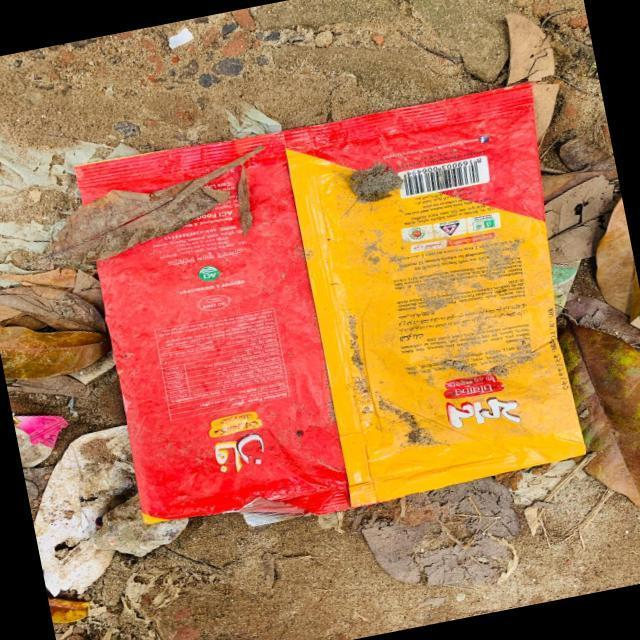packet: (85, 150, 562, 488)
